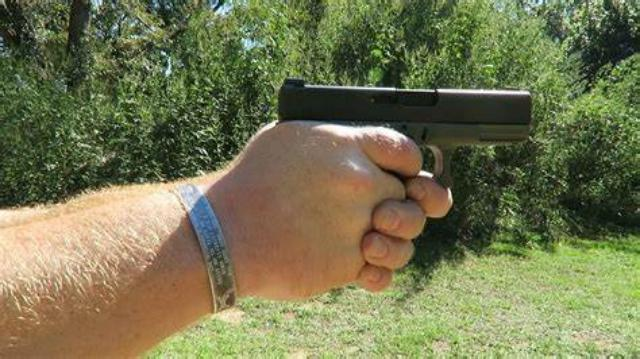handgun: (273, 72, 539, 223)
